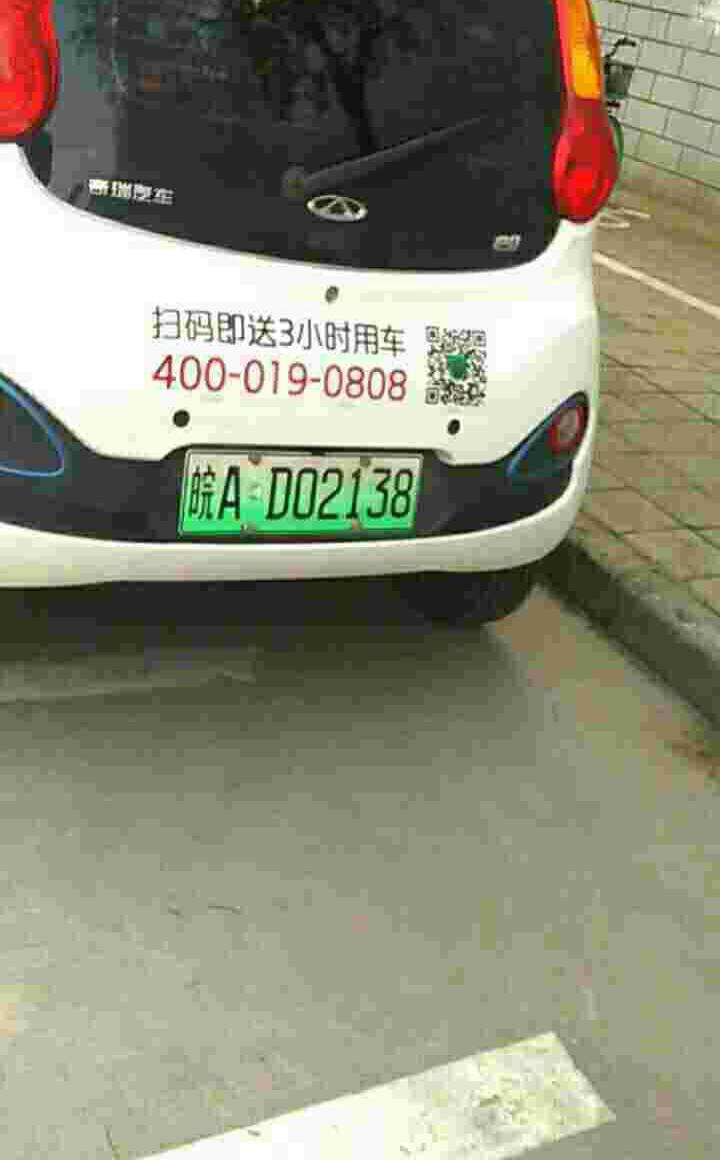car_green: (176, 448, 424, 543)
